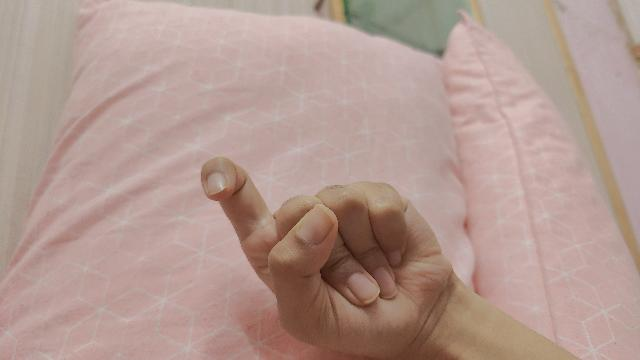tamrachud: (200, 157, 543, 360)
